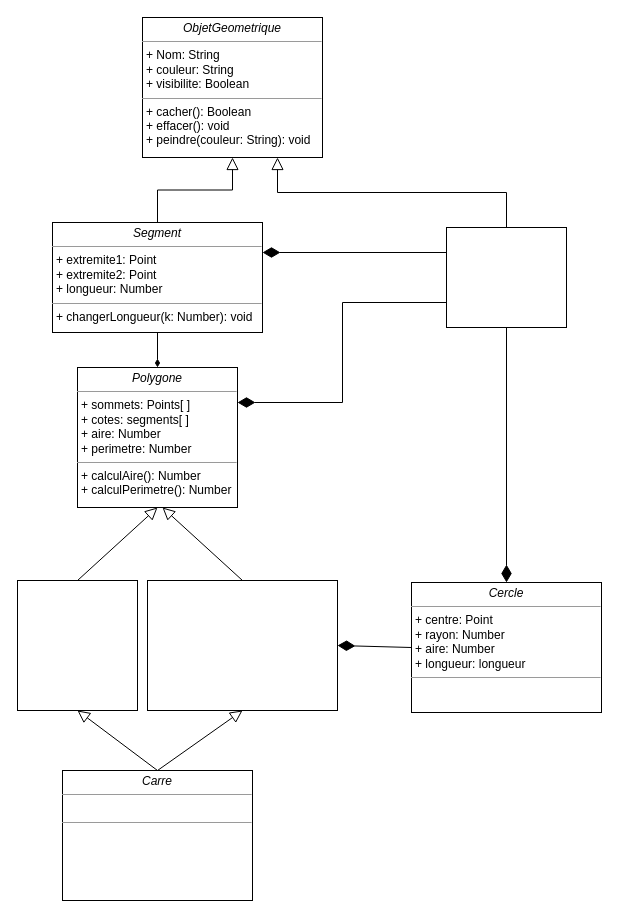
This 619x918 diagram has some shape labels left out. Each missing label, with the centre of its shape:
"Losange + longueur: Number" goes at point (77, 645).
"Point + abscisse: Number + ordonnee: Number" goes at point (506, 277).
"Rectangle + longueur: Number + largeur: Number + cercleCirconscrit: Cercle" goes at point (242, 645).
